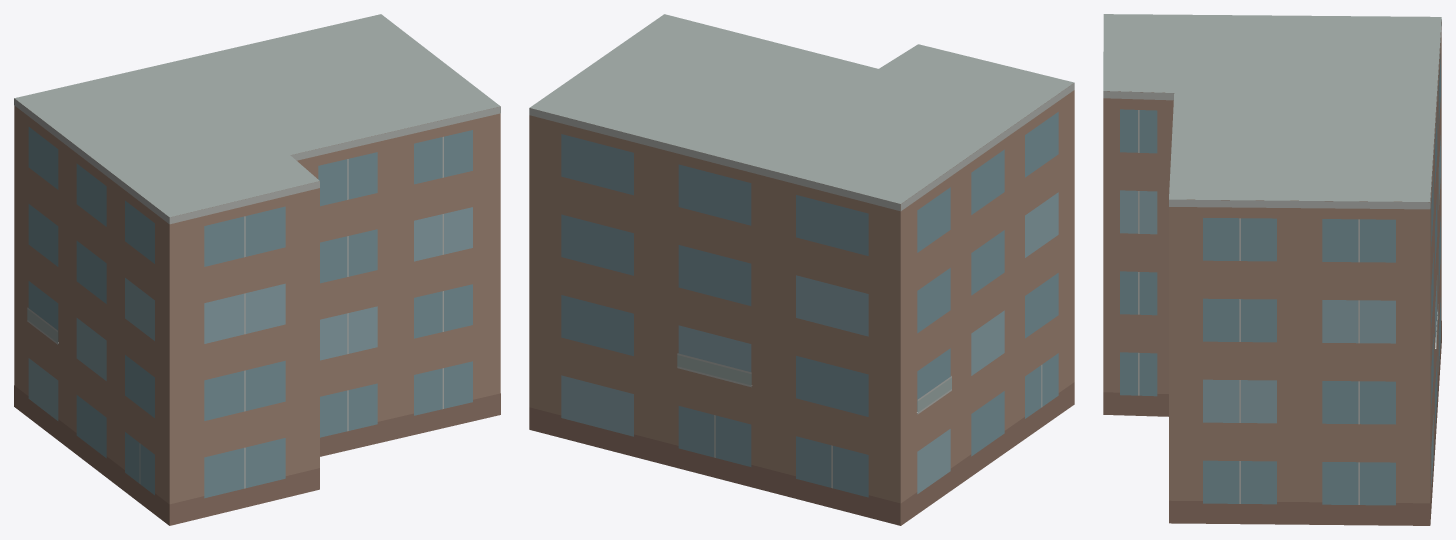
Rendered from survey-upis-32941811.glb.
3 views of the same model, side by side, from view 1: azimuth 30°, elevation 25°; view 2: azimuth 150°, elevation 25°; view 3: azimuth 270°, elevation 25° (orthographic). The views are drawn at different scales.
Parts seen in each view (by area): view 1: survey-upis-32941811.tmp; view 2: survey-upis-32941811.tmp; view 3: survey-upis-32941811.tmp.
Part boxes in pixels (x1,y1,x2,y2): survey-upis-32941811.tmp: (14,14,500,525); survey-upis-32941811.tmp: (529,14,1074,525); survey-upis-32941811.tmp: (1103,14,1441,525).
Bounding box in the file's own units: 13.4 × 10.75 × 10.2.
